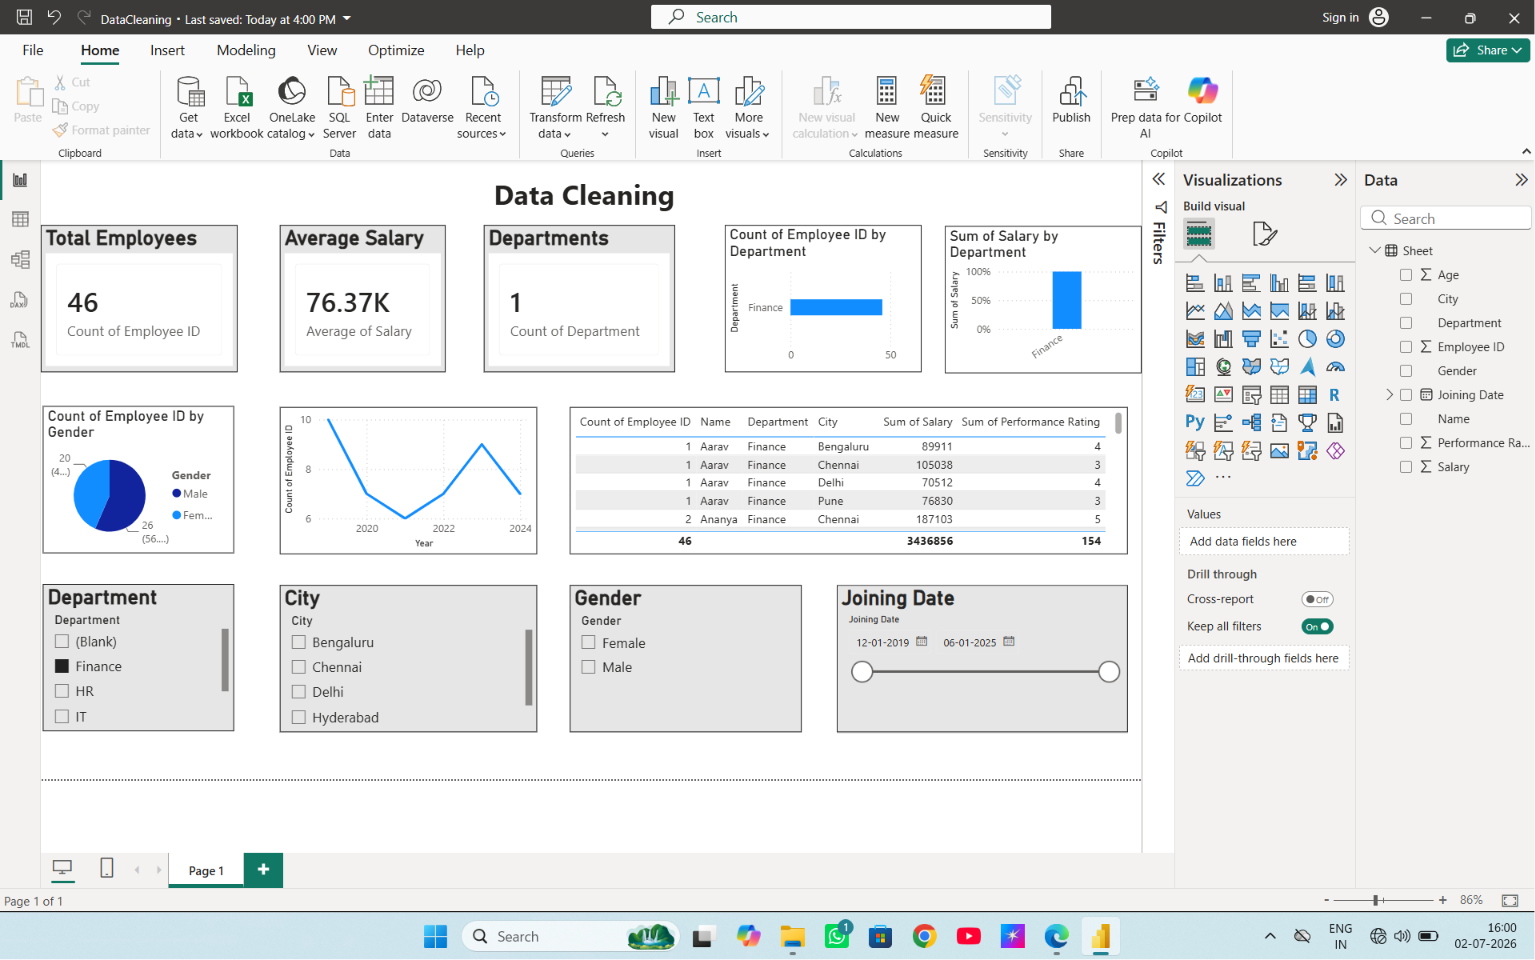

The dashboard page shown, as its layout file describes it:
{"tool":"powerbi","page":{"name":"Page 1","canvas":[1280,720],"ordinal":0},"visuals":[{"type":"cardVisual","title":"Total Employees","fields":{"Data":["CountNonNull(Sheet.Employee ID)"]},"box":[0,75.6,229.1,170.9],"z":0},{"type":"cardVisual","title":"Average Salary","fields":{"Data":["Avg(Sheet.Salary)"]},"box":[277.9,75.6,193,170.9],"z":1000},{"type":"cardVisual","title":"Departments","fields":{"Data":["Count(Sheet.Department)"]},"box":[515.1,75.6,222.1,170.9],"z":2000},{"type":"textbox","box":[0,12.8,1264,52.3],"z":3000},{"type":"clusteredBarChart","fields":{"Category":["Sheet.Department"],"Y":["CountNonNull(Sheet.Employee ID)"]},"box":[795.4,75.6,229.1,170.9],"z":4000},{"type":"hundredPercentStackedColumnChart","fields":{"Category":["Sheet.Department"],"Y":["Sum(Sheet.Salary)"]},"box":[1051.2,76.7,229.1,170.9],"z":5000},{"type":"pieChart","fields":{"Category":["Sheet.Gender"],"Y":["CountNonNull(Sheet.Employee ID)"]},"box":[2.3,286,222.1,170.9],"z":6000},{"type":"lineChart","fields":{"Category":["Sheet.Joining Date.Variation.Date Hierarchy.Year","Sheet.Joining Date.Variation.Date Hierarchy.Quarter","Sheet.Joining Date.Variation.Date Hierarchy.Month","Sheet.Joining Date.Variation.Date Hierarchy.Day"],"Y":["CountNonNull(Sheet.Employee ID)"]},"box":[277.9,287.2,298.8,170.9],"z":7000},{"type":"tableEx","fields":{"Values":["CountNonNull(Sheet.Employee ID)","Sheet.Name","Sheet.Department","Sheet.City","Sum(Sheet.Salary)","Sum(Sheet.Performance Rating)"]},"box":[615.1,287.2,648.8,170.9],"z":8000},{"type":"slicer","title":"Department","fields":{"Values":["Sheet.Department"]},"box":[2,493.5,222,171],"z":8001},{"type":"slicer","title":"City","fields":{"Values":["Sheet.City"]},"box":[278,494,299,171],"z":8002},{"type":"slicer","title":"Gender","fields":{"Values":["Sheet.Gender"]},"box":[615.1,494.2,269.8,170.9],"z":8003},{"type":"slicer","title":"Joining Date","fields":{"Values":["Sheet.Joining Date"]},"box":[925.6,494.2,338.4,170.9],"z":8004}]}

Visuals, with their boxes on the page's 1280x720 design canvas (x1, y1, x2, y2). These are canvas units, not pixel positions in the 1535x960 screenshot, which may show the page scaled, cropped or inside an application window:
"Total Employees" cardVisual: [x1=0, y1=76, x2=229, y2=246]
"Average Salary" cardVisual: [x1=278, y1=76, x2=471, y2=246]
"Departments" cardVisual: [x1=515, y1=76, x2=737, y2=246]
textbox: [x1=0, y1=13, x2=1264, y2=65]
clusteredBarChart - Sheet.Department x CountNonNull(Sheet.Employee ID): [x1=795, y1=76, x2=1024, y2=246]
hundredPercentStackedColumnChart - Sheet.Department x Sum(Sheet.Salary): [x1=1051, y1=77, x2=1280, y2=248]
pieChart - Sheet.Gender x CountNonNull(Sheet.Employee ID): [x1=2, y1=286, x2=224, y2=457]
lineChart - Sheet.Joining Date.Variation.Date Hierarchy.Year x Sheet.Joining Date.Variation.Date Hierarchy.Quarter: [x1=278, y1=287, x2=577, y2=458]
tableEx - CountNonNull(Sheet.Employee ID) x Sheet.Name: [x1=615, y1=287, x2=1264, y2=458]
"Department" slicer: [x1=2, y1=494, x2=224, y2=664]
"City" slicer: [x1=278, y1=494, x2=577, y2=665]
"Gender" slicer: [x1=615, y1=494, x2=885, y2=665]
"Joining Date" slicer: [x1=926, y1=494, x2=1264, y2=665]
